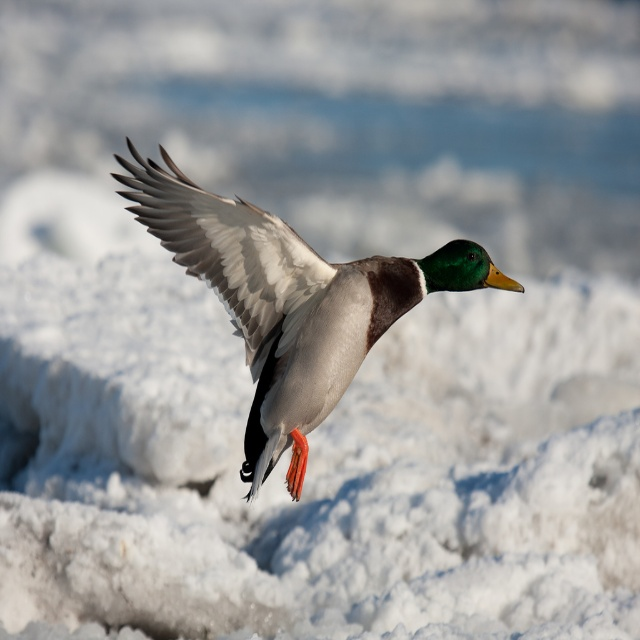Duck: (114, 142, 537, 510)
